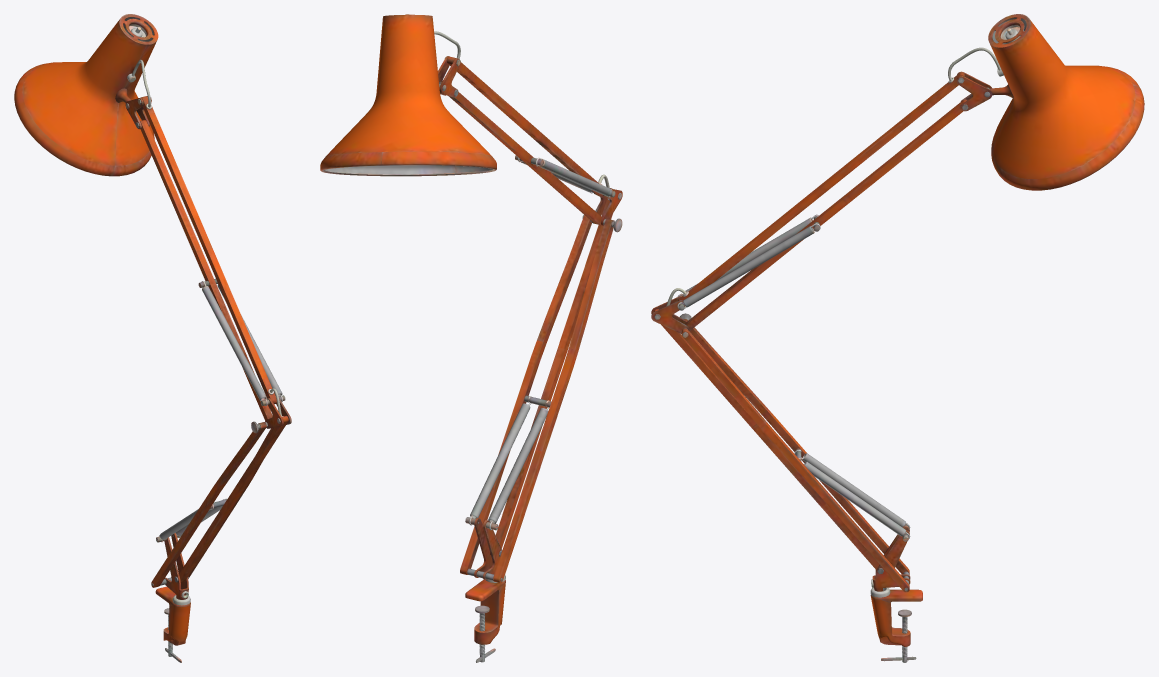
The model's file is desk_lamp.glb.
3 renders of one model, left to right at view 1: azimuth 30°, elevation 25°; view 2: azimuth 150°, elevation 25°; view 3: azimuth 270°, elevation 25°, orthographic. The views are drawn at different scales.
Parts seen in each view (by area): view 1: desk_lamp_arm_01; view 2: desk_lamp_arm_01; view 3: desk_lamp_arm_01.
Boxes of the visible parts, x1,y1,x2,y2 form: desk_lamp_arm_01: [14, 14, 291, 662]; desk_lamp_arm_01: [320, 14, 622, 662]; desk_lamp_arm_01: [651, 14, 1144, 662].
Bounding box in the file's own units: 0.2018 × 0.8926 × 0.6139.
2 materials, 2 textured.
